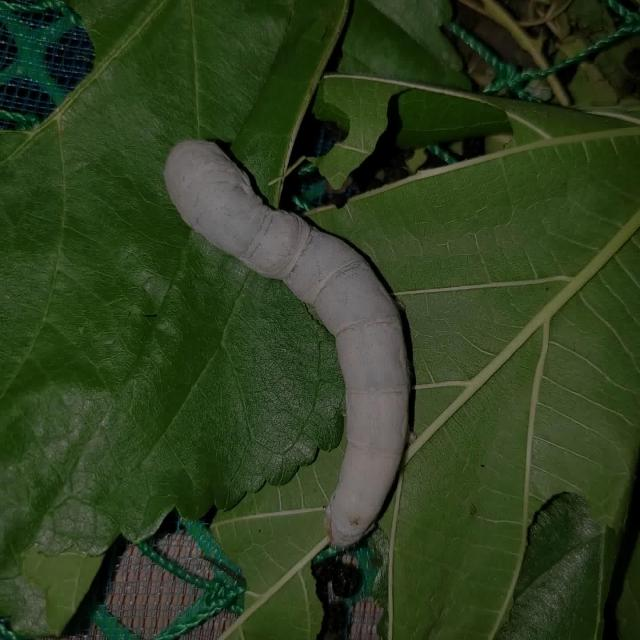Healthy: (135, 105, 438, 578)
